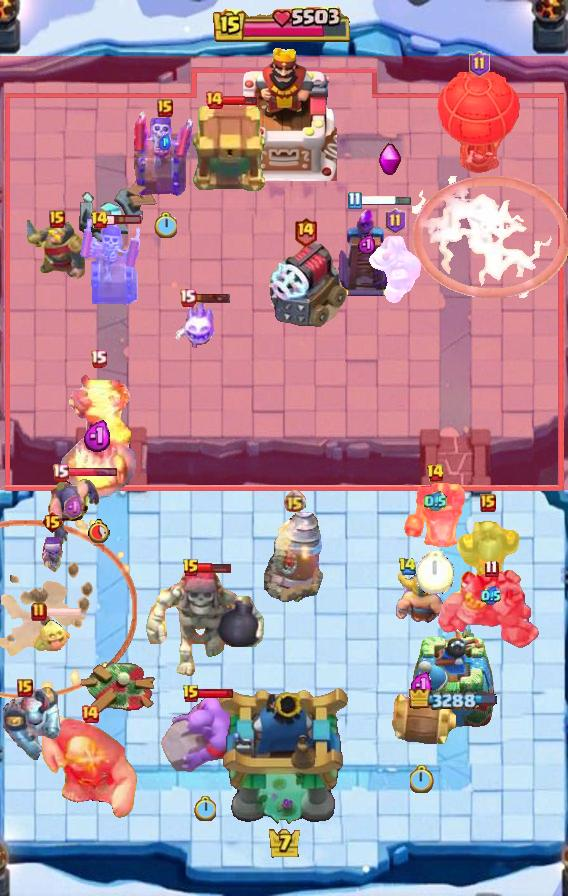archer-queen: (157, 695, 253, 775)
balloon: (41, 714, 139, 826)
barbarian-evolution: (412, 176, 568, 298)
bat-evolution: (32, 616, 72, 654)
bomb: (188, 105, 266, 193)
cannon-cart: (437, 72, 521, 174)
cannoneer-tower: (438, 566, 544, 650)
clock: (213, 7, 355, 45)
electro-dragon: (59, 372, 137, 500)
electro-giant: (144, 565, 268, 677)
electro-spirit: (83, 420, 113, 452), (410, 672, 434, 700), (64, 494, 85, 520), (425, 491, 448, 513), (481, 586, 501, 606), (357, 234, 375, 254), (159, 134, 171, 150)
elixir: (418, 551, 455, 594), (410, 765, 434, 793), (155, 212, 178, 238), (86, 519, 109, 543), (194, 796, 216, 821)
elixir-golem-small: (0, 686, 62, 764), (455, 510, 521, 578), (368, 233, 422, 305)
emote: (359, 193, 413, 206), (66, 467, 118, 478), (222, 93, 258, 106), (45, 606, 83, 618), (106, 214, 143, 226), (193, 292, 230, 304), (198, 689, 235, 700), (198, 562, 231, 574)
firecracker: (27, 220, 87, 280)
freeze: (403, 482, 467, 550)
goblin: (36, 537, 68, 577)
goblin-giant: (393, 572, 449, 626)
golem: (262, 239, 348, 329)
guard: (0, 521, 136, 700)
ice-spirit-evolution-symbol: (336, 206, 396, 298)
king-tower: (216, 684, 352, 826), (231, 45, 337, 181)
magic-archer: (264, 511, 324, 603)
mirror: (173, 302, 221, 350)
monk: (47, 477, 101, 547)
queen-tower: (411, 627, 495, 731)
selected: (409, 688, 497, 712)
skeleton-king-bar: (79, 216, 141, 308), (134, 107, 196, 197)
skeleton-king-skill: (378, 143, 403, 177)
text: (293, 217, 318, 248), (283, 490, 306, 514), (40, 510, 63, 534), (469, 51, 490, 77), (385, 208, 406, 234), (204, 90, 224, 110), (80, 704, 100, 724), (90, 210, 109, 230), (427, 463, 446, 483), (398, 556, 418, 575), (182, 558, 200, 578), (182, 684, 200, 704), (179, 288, 197, 307), (51, 463, 69, 482), (89, 349, 106, 368), (31, 602, 47, 622), (157, 99, 173, 117), (49, 210, 65, 228), (480, 494, 496, 512), (17, 679, 33, 697), (346, 190, 361, 209), (485, 559, 499, 578)
the-log: (385, 693, 459, 745)
